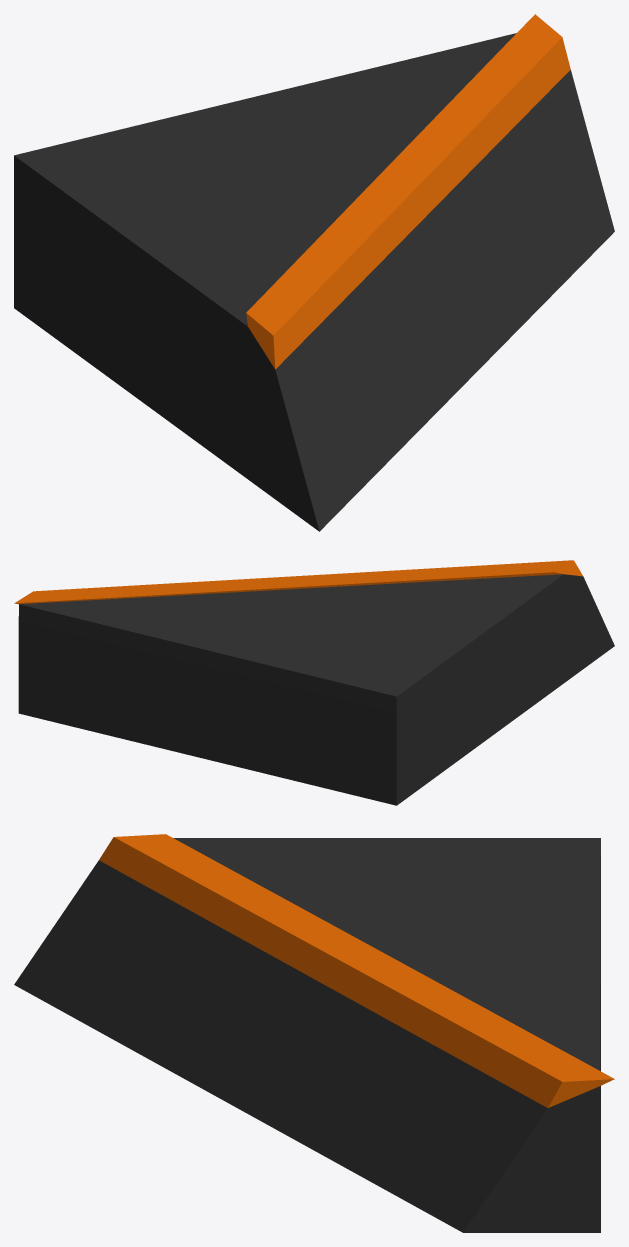
The model's file is block3.fbx.
The picture shows the model from 3 angles, top to bottom: view 1: azimuth 30°, elevation 25°; view 2: azimuth 150°, elevation 25°; view 3: azimuth 270°, elevation 25°; orthographic projection. The views are drawn at different scales.
Visible parts, largest first — view 1: Cube.003; view 2: Cube.003; view 3: Cube.003.
Part boxes in pixels (x1,y1,x2,y2): Cube.003: [14, 14, 614, 531]; Cube.003: [14, 560, 614, 805]; Cube.003: [14, 834, 614, 1232].
Size of the model in its own units: 200 by 57.69 by 205.
